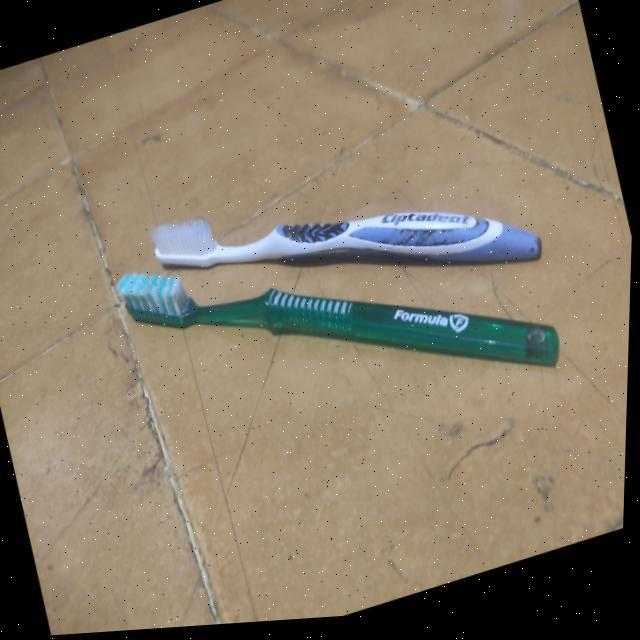toothbrush: (82, 128, 598, 524), (131, 75, 607, 405)
